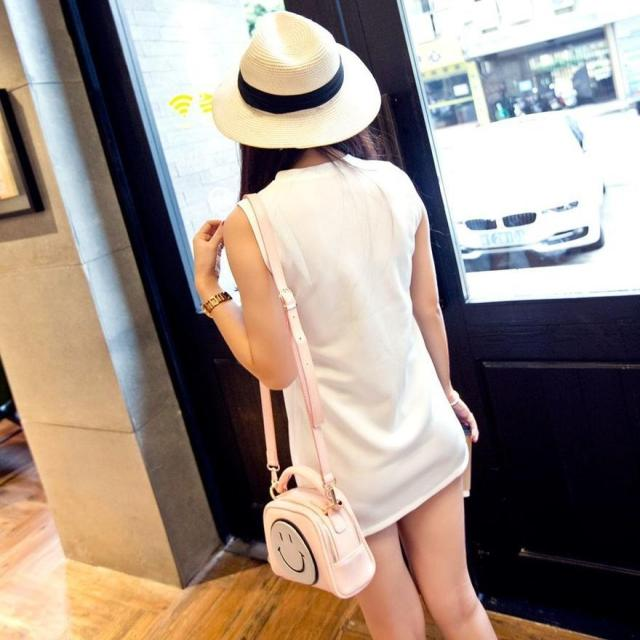vest dress: (241, 158, 468, 544)
